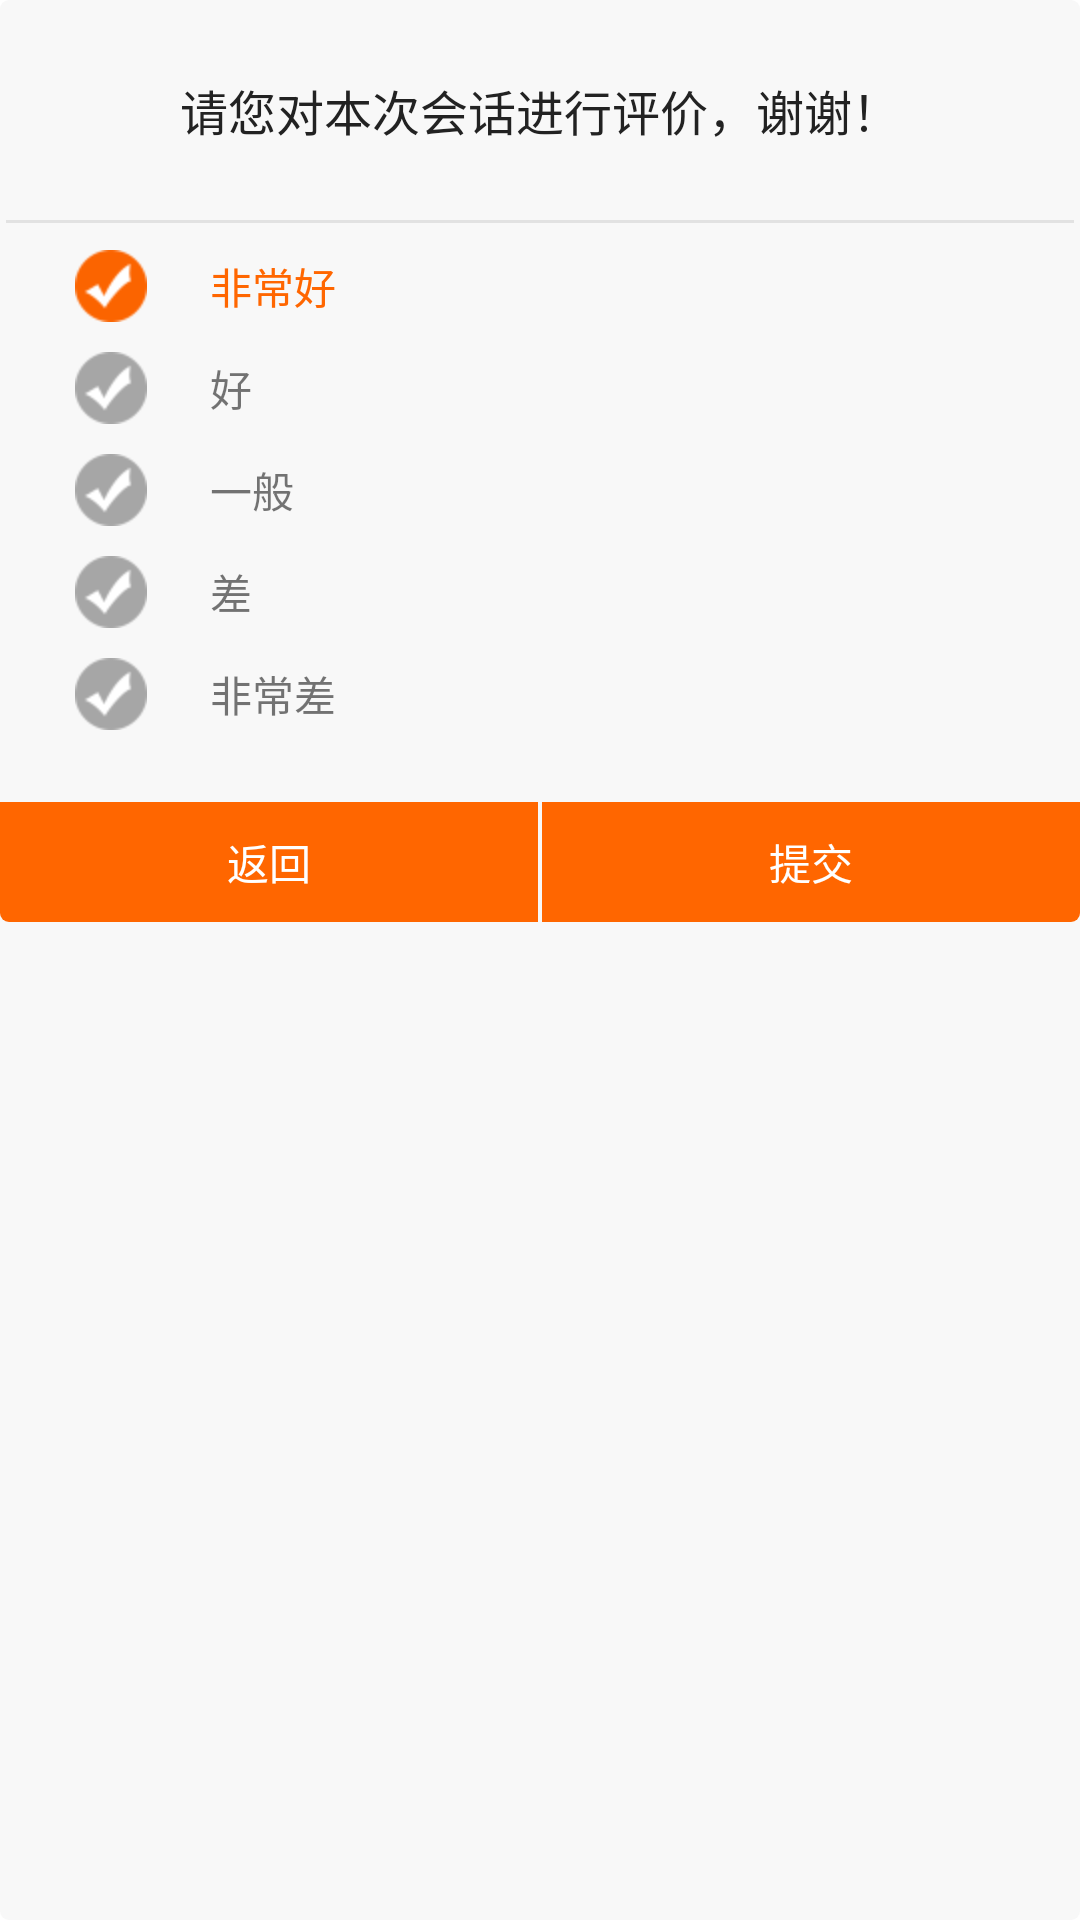

Locate icon controls on the screen. Image size 1080*1920, boxes as rect(x1, y1, x2, y2).
sdk pj item select: rect(75, 250, 147, 322)
sdk pj item un: rect(75, 352, 147, 424), rect(75, 454, 147, 526), rect(75, 556, 147, 628), rect(75, 658, 147, 730)
